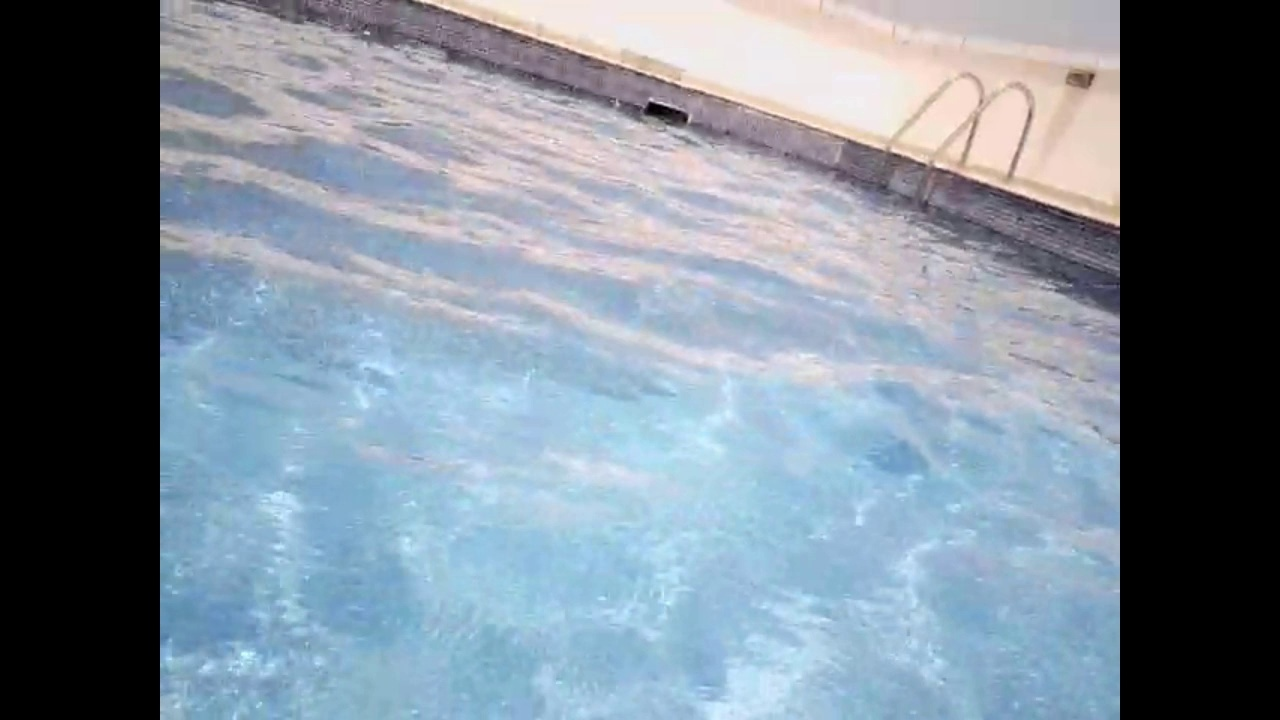debris: (608, 92, 622, 112)
